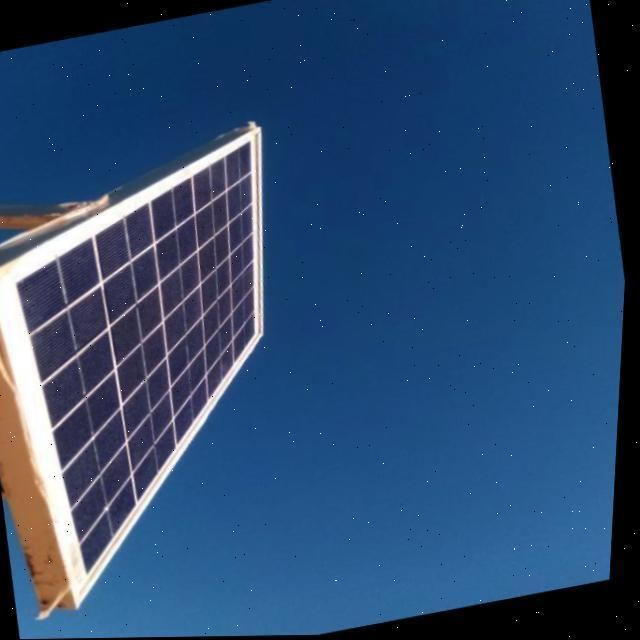Normal Solar Panel: (0, 128, 332, 613)
